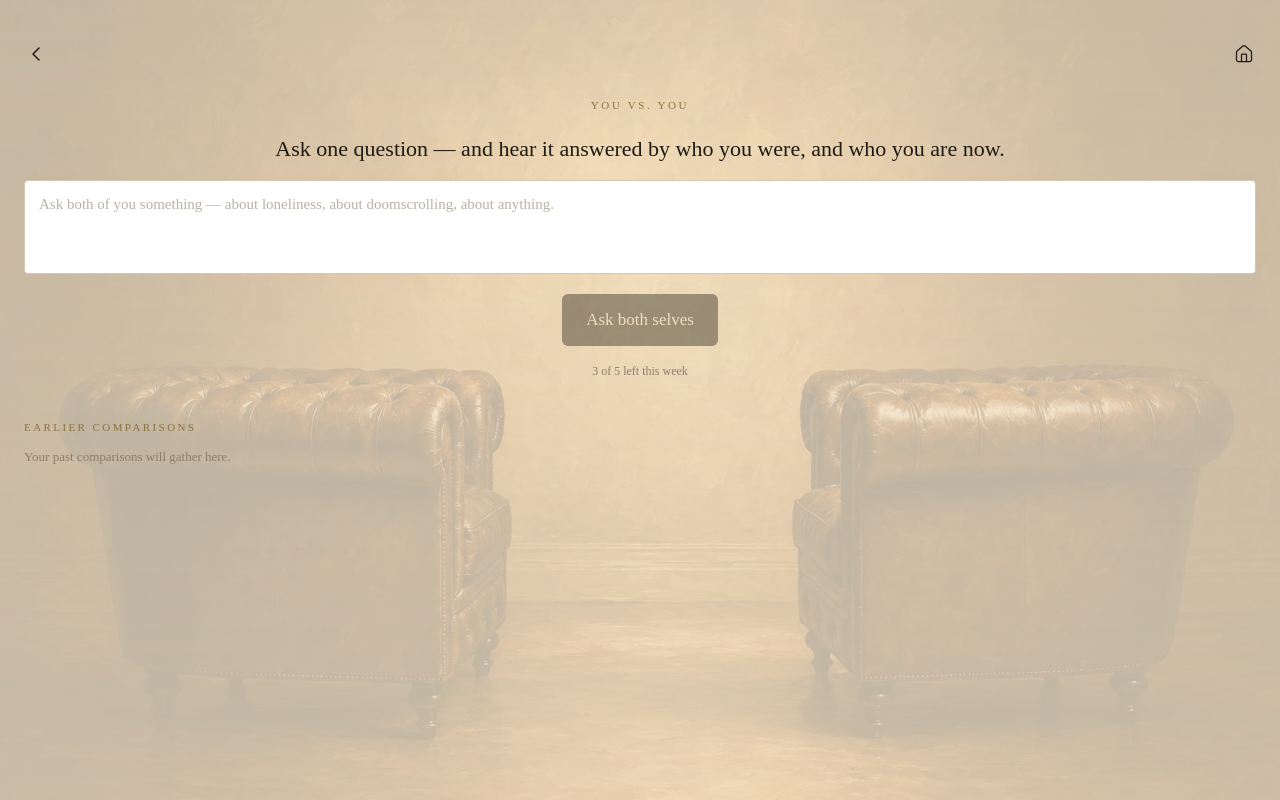
Test: You vs You — a self answer withheld after it streamed › leaves a clean run alone
This screenshot has width=1280, height=800.
Step 1. Replace the text in the text box with placeholder "Ask both of you something" with "What am I afraid of?" → coordinates (640, 227), box [24,180,1256,274]
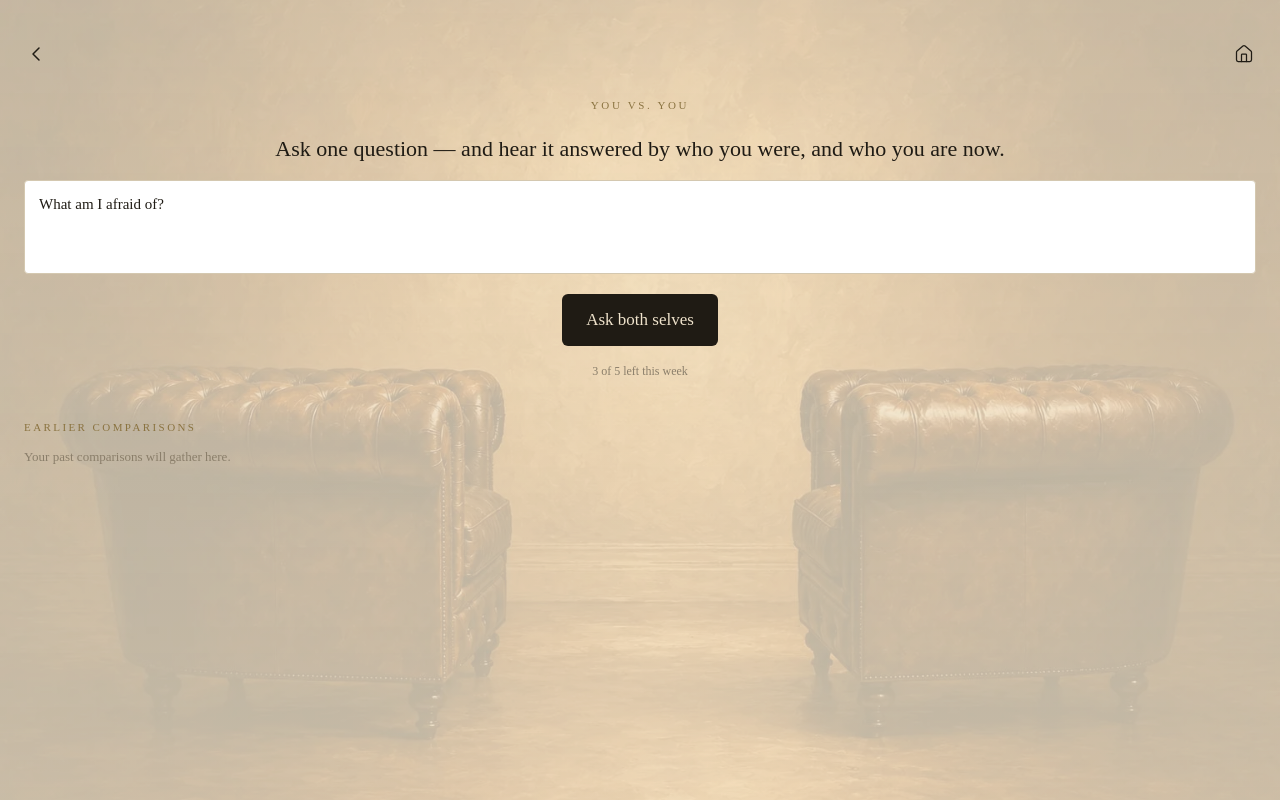
Step 2. Click the button "Ask both selves" → coordinates (640, 320), box [562,294,718,346]
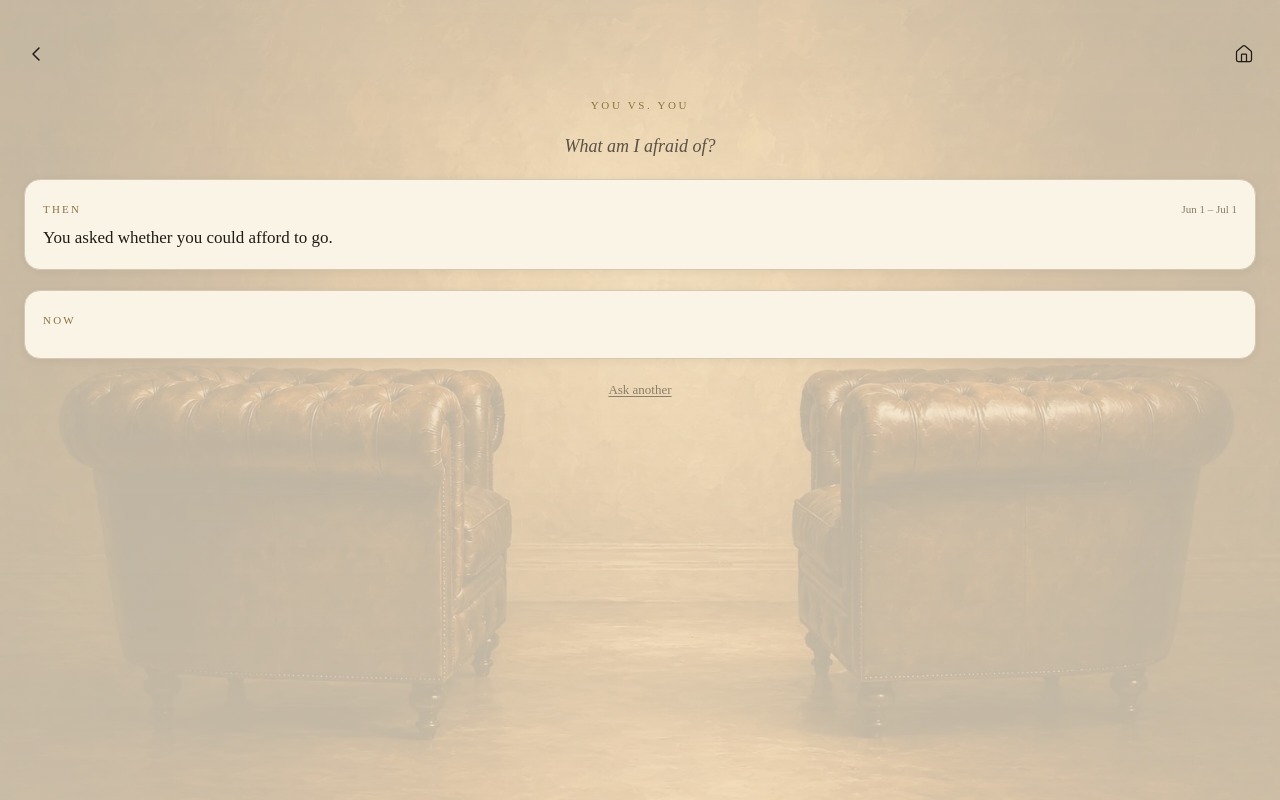
Check: the text "You asked whether you could afford to go." is shown, box [43,228,333,247]
